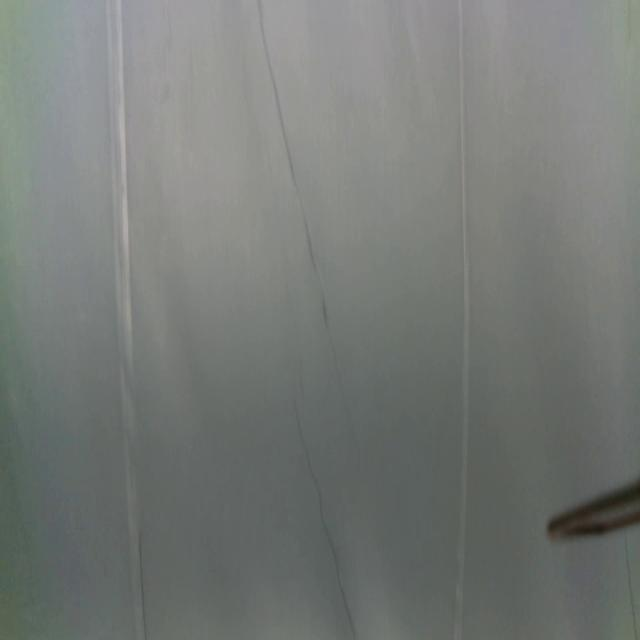crease: (104, 0, 149, 639), (256, 0, 332, 334), (294, 396, 356, 632), (450, 0, 471, 639), (622, 532, 640, 640)
